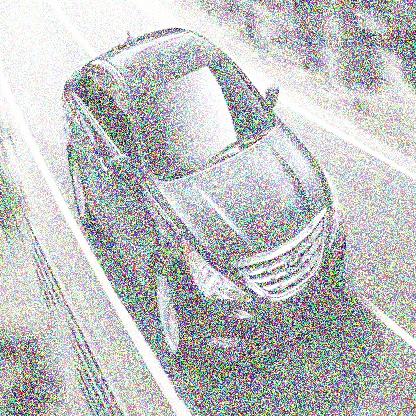Vehicle: (60, 22, 350, 365)
